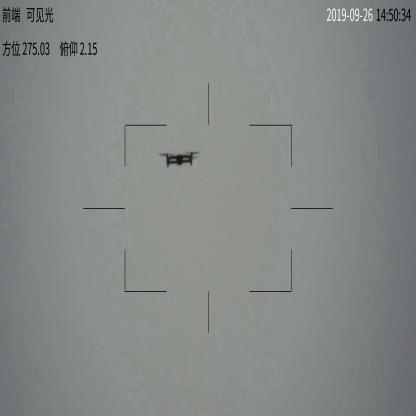uav: (158, 148, 200, 166)
